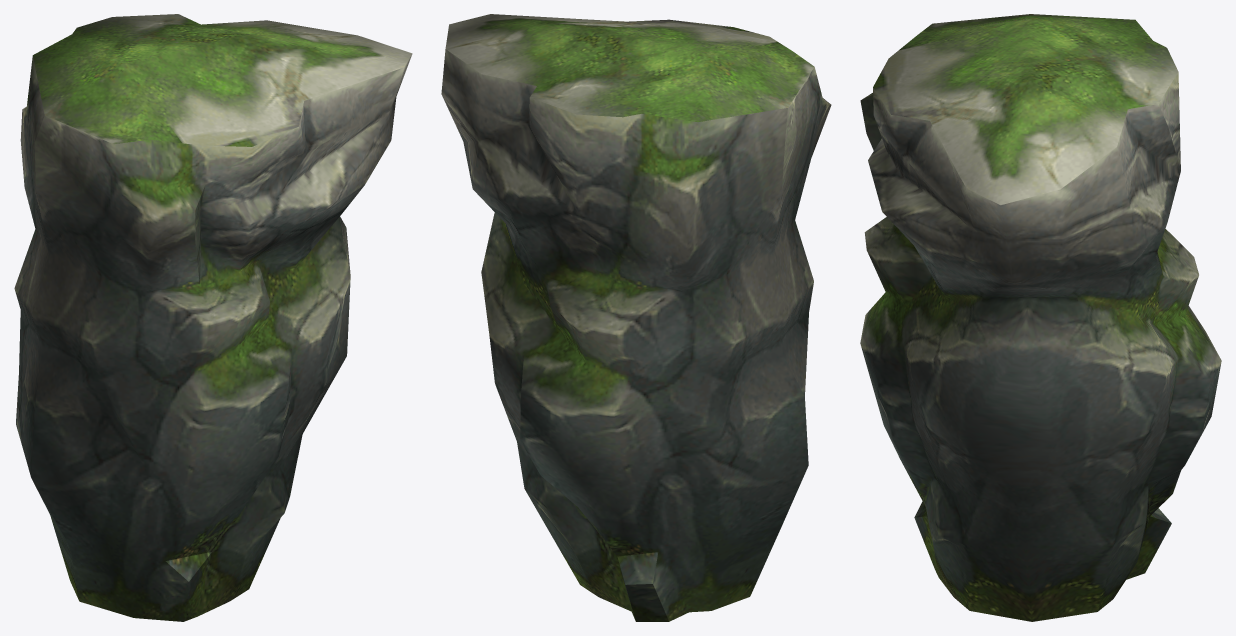
The model's file is 4006_Item_shitou_11.FBX.
3 views of the same model, side by side, from view 1: azimuth 30°, elevation 25°; view 2: azimuth 150°, elevation 25°; view 3: azimuth 270°, elevation 25° (orthographic). The views are drawn at different scales.
Visible parts, largest first — view 1: 4006_Item_shitou_11; view 2: 4006_Item_shitou_11; view 3: 4006_Item_shitou_11.
Boxes of the visible parts, left/top/right/bottom form: 4006_Item_shitou_11: left=14, top=14, right=412, bottom=621; 4006_Item_shitou_11: left=441, top=14, right=831, bottom=621; 4006_Item_shitou_11: left=860, top=14, right=1221, bottom=621.
Bounding box in the file's own units: 348 × 476 × 286.
